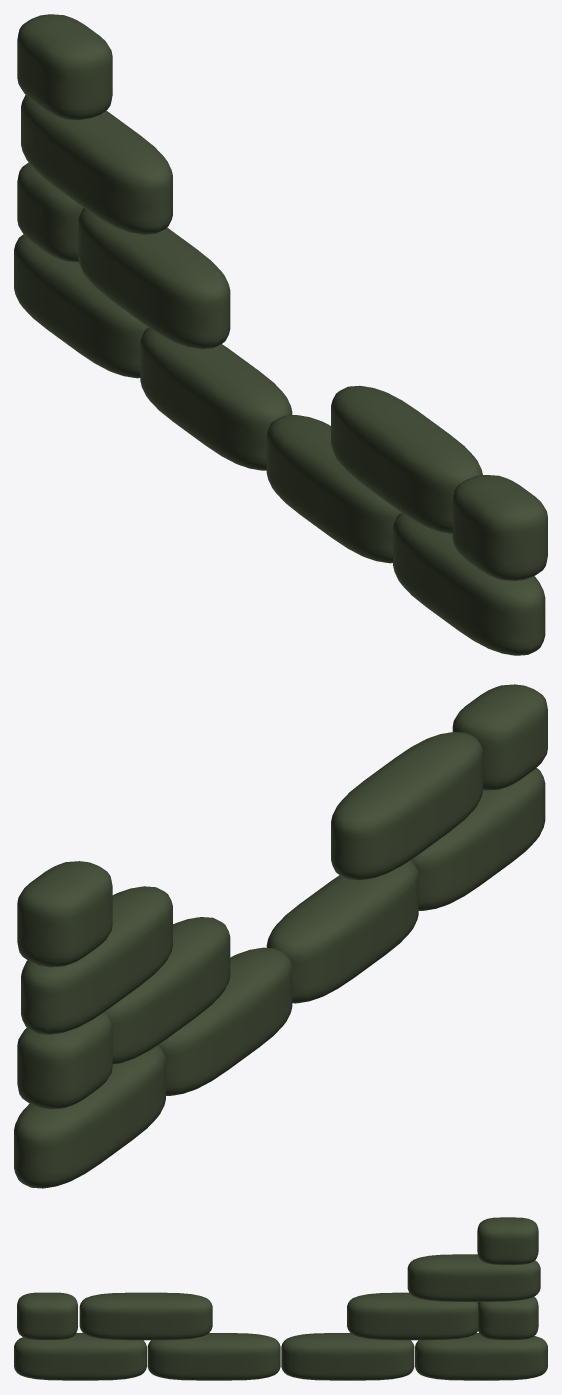
The model's file is Wall 7.fbx.
3 renders of one model, top to bottom at view 1: azimuth 30°, elevation 25°; view 2: azimuth 150°, elevation 25°; view 3: azimuth 270°, elevation 25°, orthographic. The views are drawn at different scales.
Visible parts, largest first — view 1: Cube; view 2: Cube; view 3: Cube.
Part boxes in pixels (x1,y1,x2,y2): Cube: (14, 14, 547, 655); Cube: (14, 684, 547, 1188); Cube: (14, 1217, 547, 1380).
Bounding box in the file's own units: 81.86 × 371 × 1155.
